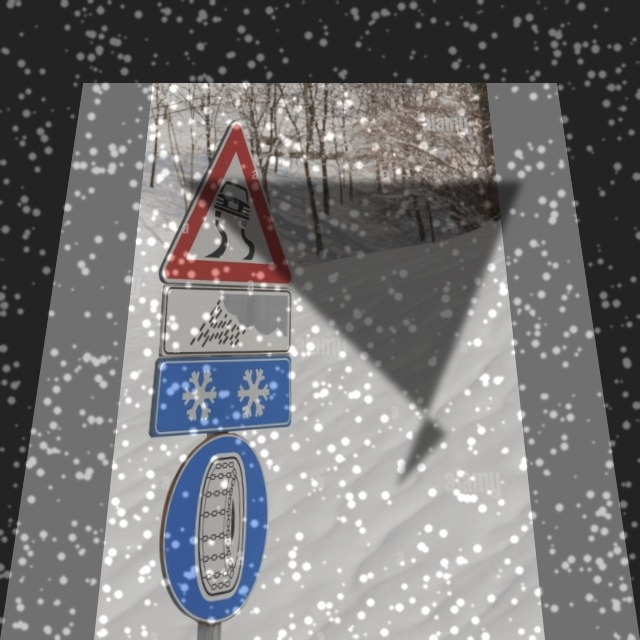Slippery_Road: (168, 119, 297, 287)
